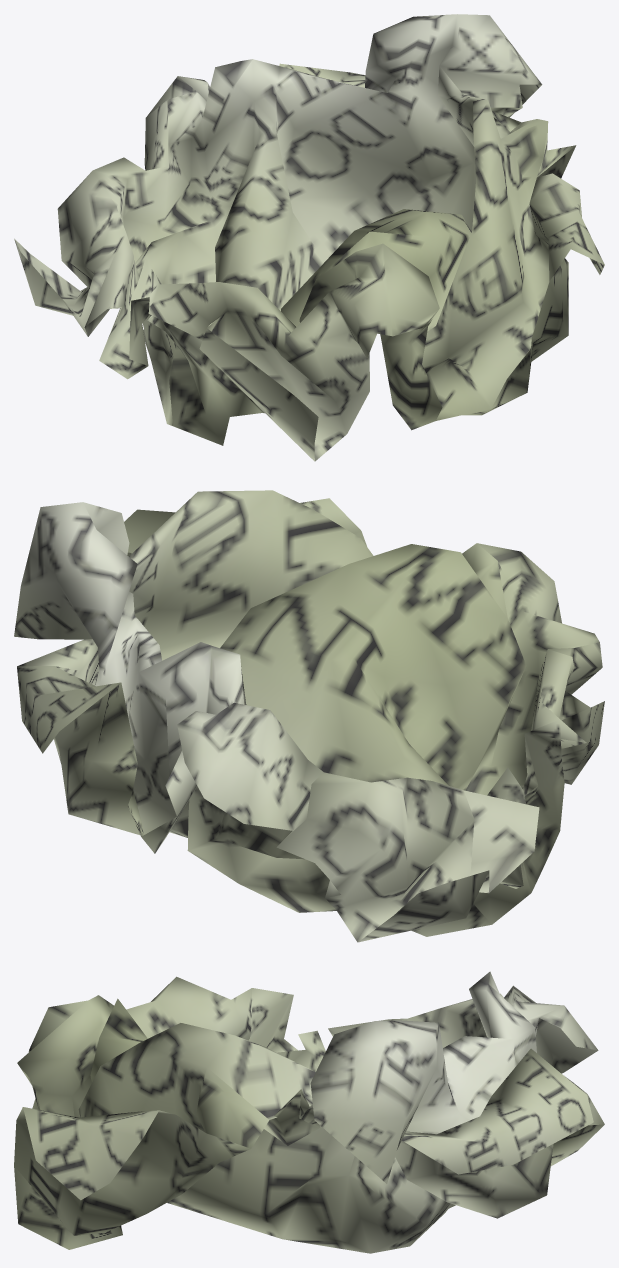
Rendered from Trash.fbx.
The picture shows the model from 3 angles, top to bottom: view 1: azimuth 30°, elevation 25°; view 2: azimuth 150°, elevation 25°; view 3: azimuth 270°, elevation 25°; orthographic projection. The views are drawn at different scales.
Visible parts, largest first — view 1: Trash; view 2: Trash; view 3: Trash.
Part boxes in pixels (bbox=[...]): Trash: bbox=[14, 14, 604, 461]; Trash: bbox=[14, 490, 604, 942]; Trash: bbox=[14, 971, 604, 1253].
Size of the model in its own units: 0.8034 by 0.5409 by 0.8694.
